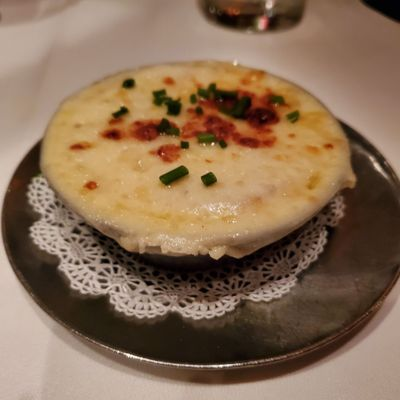sandwich: (40, 61, 360, 261)
sushi: (3, 49, 396, 362)
